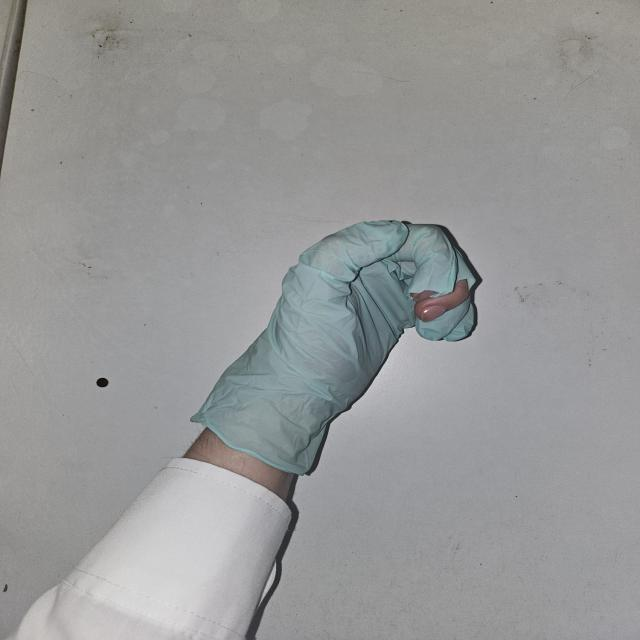gloves_damaged: (186, 217, 487, 474)
